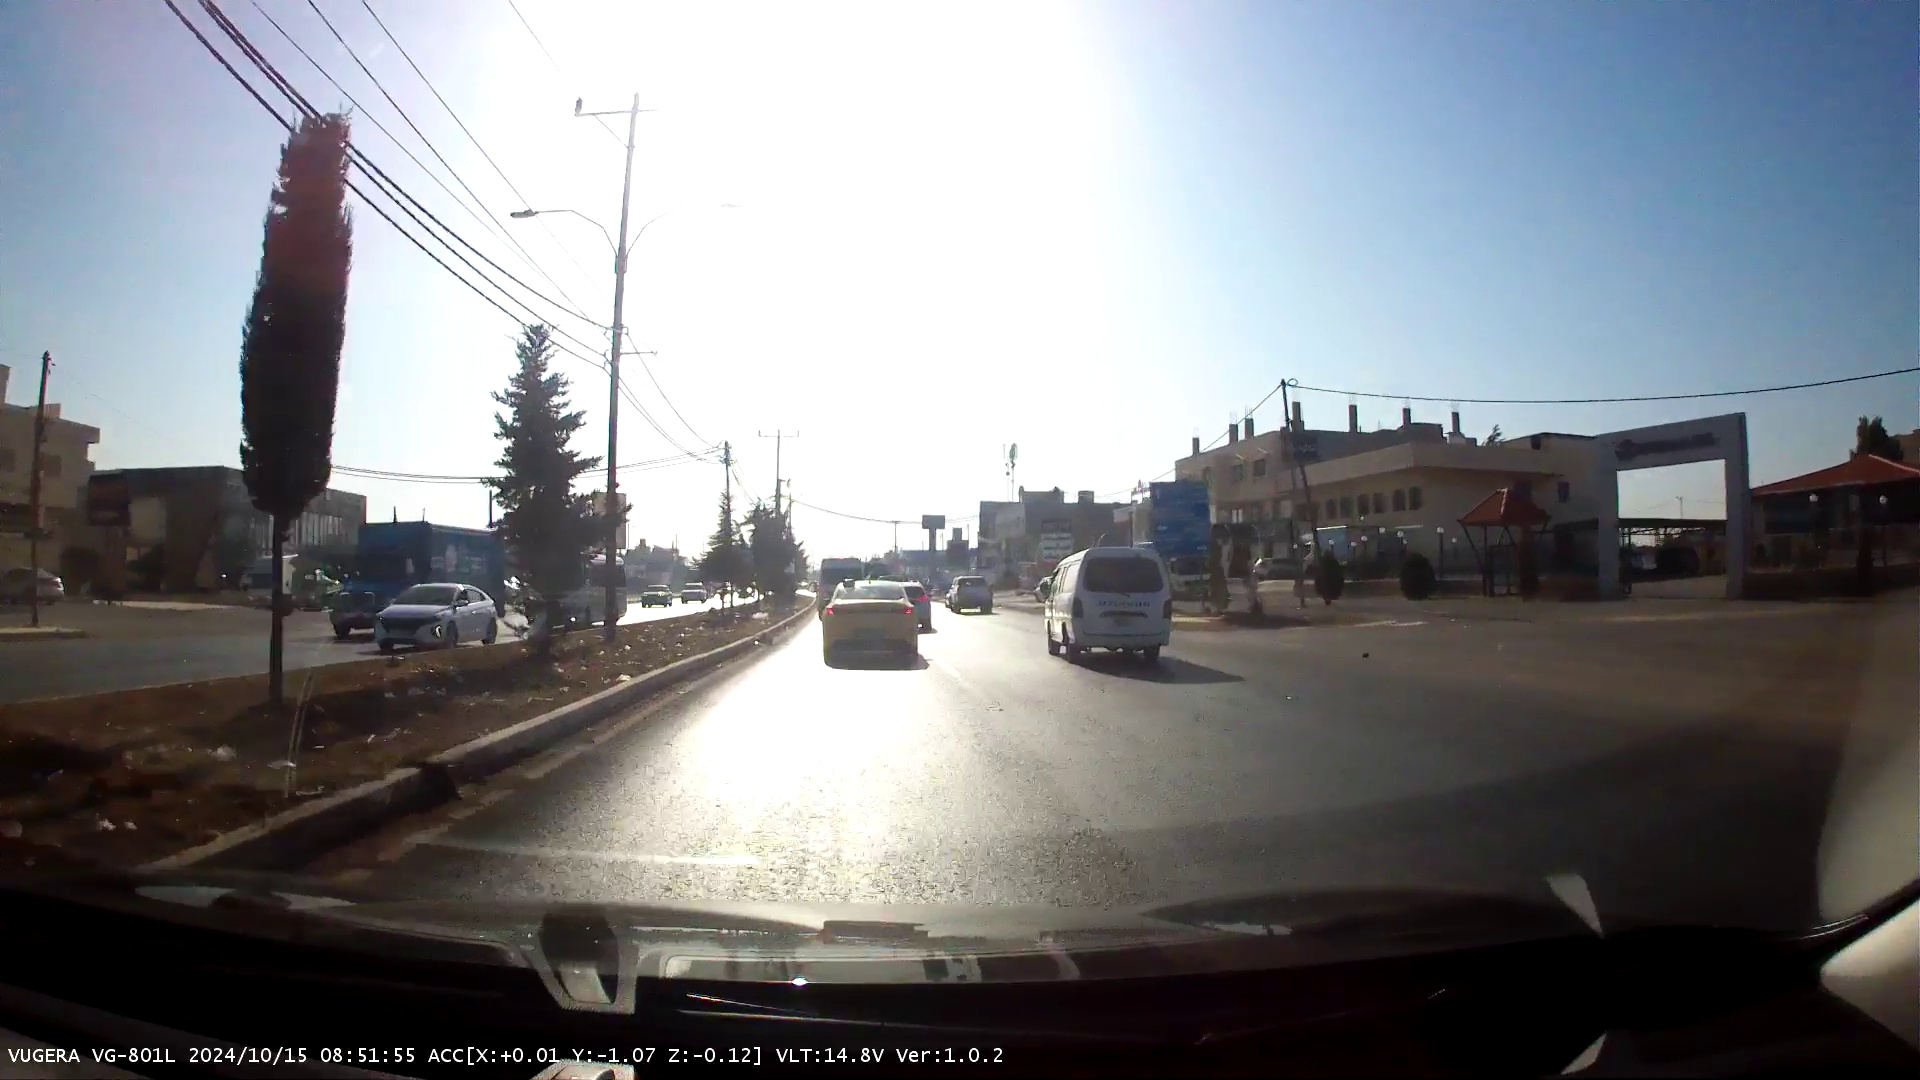vehicle: (324, 520, 509, 640), (1044, 546, 1174, 663), (822, 580, 918, 670), (375, 582, 498, 650), (524, 553, 626, 622), (7, 570, 66, 601), (945, 575, 993, 613), (820, 558, 862, 599), (899, 582, 931, 634), (1251, 556, 1299, 579), (640, 583, 673, 609), (680, 582, 707, 604)
